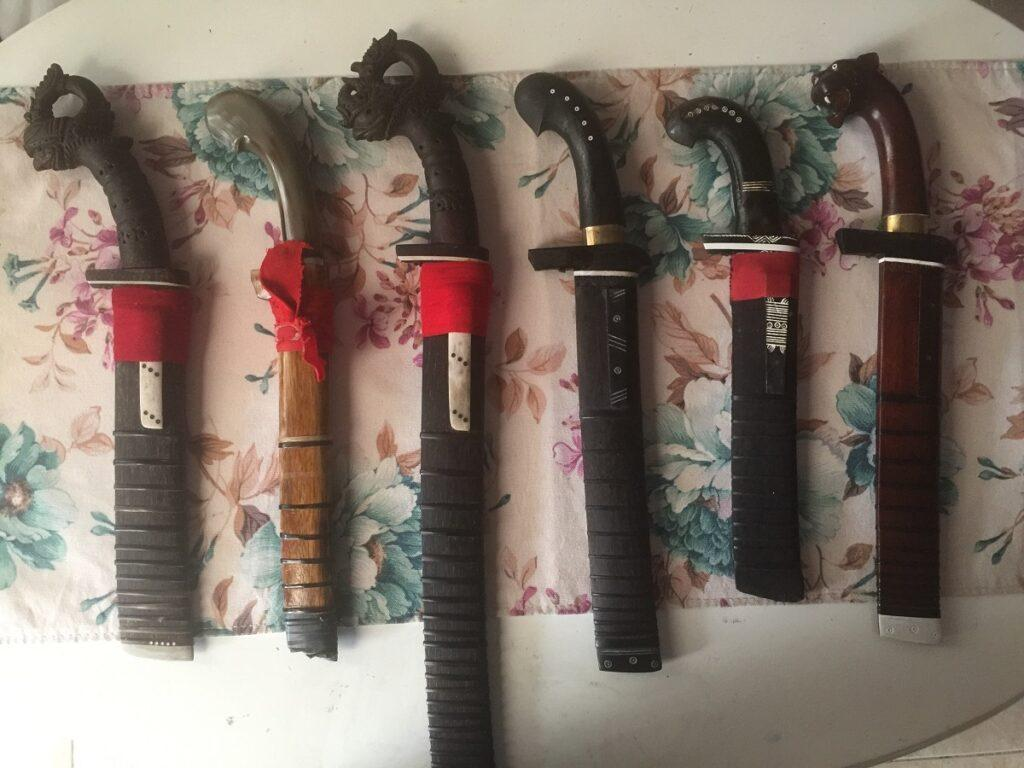facao: (343, 24, 538, 768), (16, 48, 218, 668), (506, 38, 688, 696), (798, 16, 978, 650), (198, 58, 368, 694), (654, 46, 830, 619)
